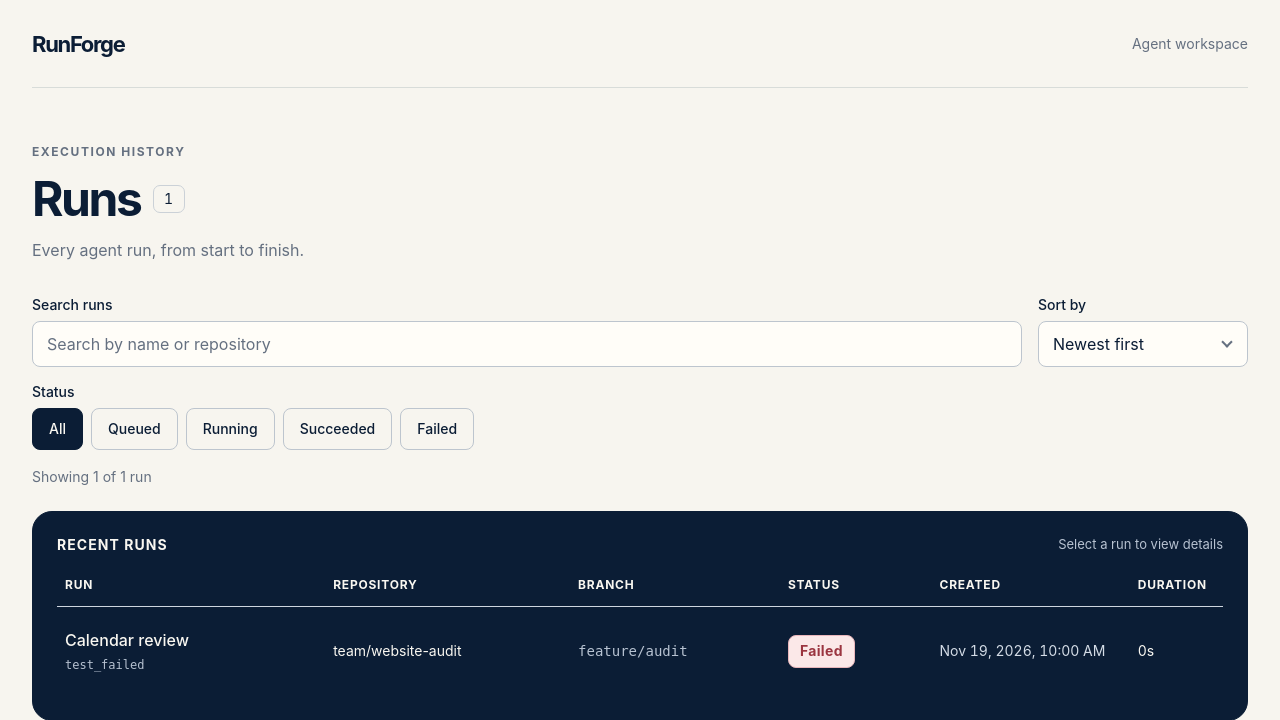
Test: показывает нулевую длительность и сообщение об отсутствии логов в деталях
The width and height of the screenshot is (1280, 720).
Click the button "Calendar review" at (191, 640), box 65,628 -> 317,652
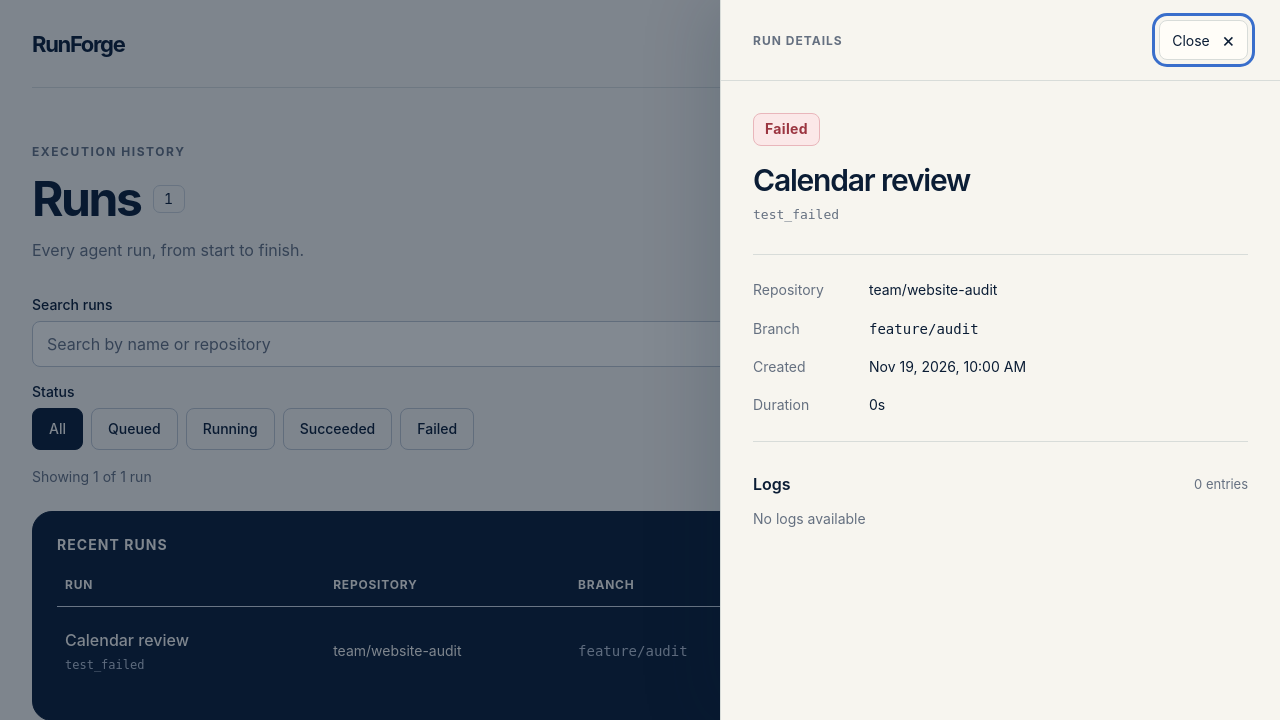
Check: the text "0s" is shown, box 869,396 -> 885,414
Check: the text "No logs available" is shown, box 753,510 -> 866,527
